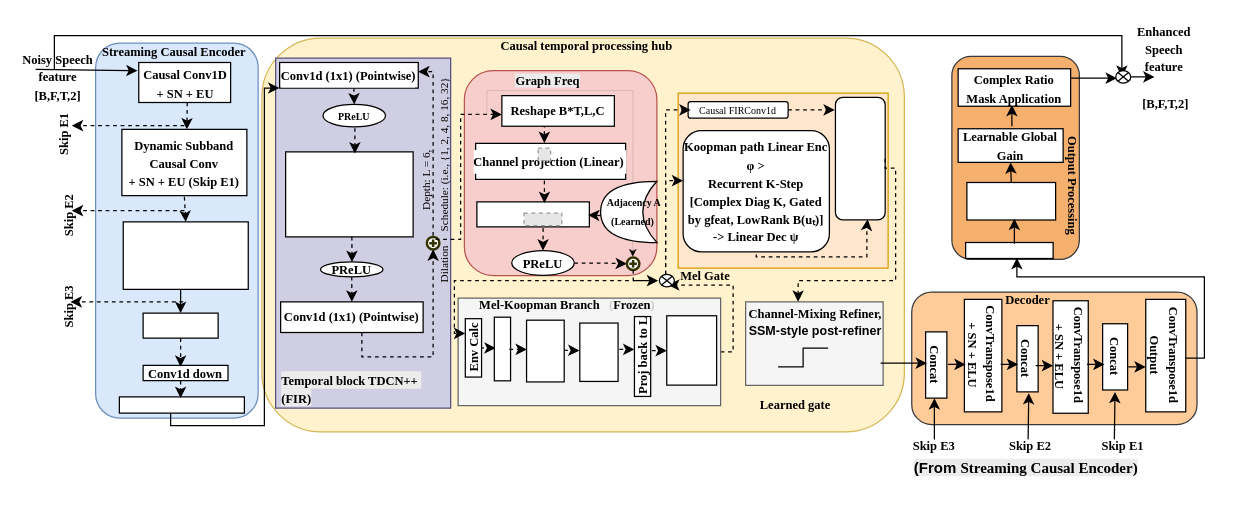
This 1238x523 diagram has some shape labels left out. Grey dashed boxes stand in for pictures. The box of each missing label's shape, as (x1, y1, x2, y2) in pixels:
Causal Conv1d (Kernel=3, Groups=C) *DILATION = 2^i*: (284, 151, 413, 237)
Causal LP Smoother: (525, 319, 564, 382)
Conv1d 1x1: (142, 312, 218, 338)
Dynamic Subband Causal Conv + SN + EU (Skip E2): (122, 221, 248, 289)
Global Leared Alpha: (666, 314, 717, 385)
Graph Filter: (476, 201, 589, 227)
Koopman Enc/Dec: (579, 322, 618, 382)
LevelNorm: (964, 241, 1053, 258)
Per-band/time Blend (gated by gfeat): (834, 96, 885, 220)
Proj to Mel: (493, 316, 511, 381)
Reshape to [B,C,T,L]: (118, 396, 244, 413)
Soft Mask Clamp: (966, 181, 1056, 220)
